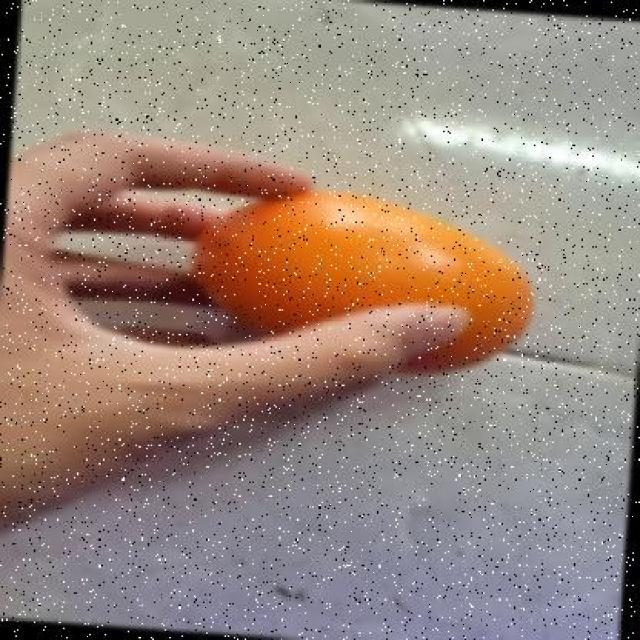Orange: (192, 186, 534, 372)
